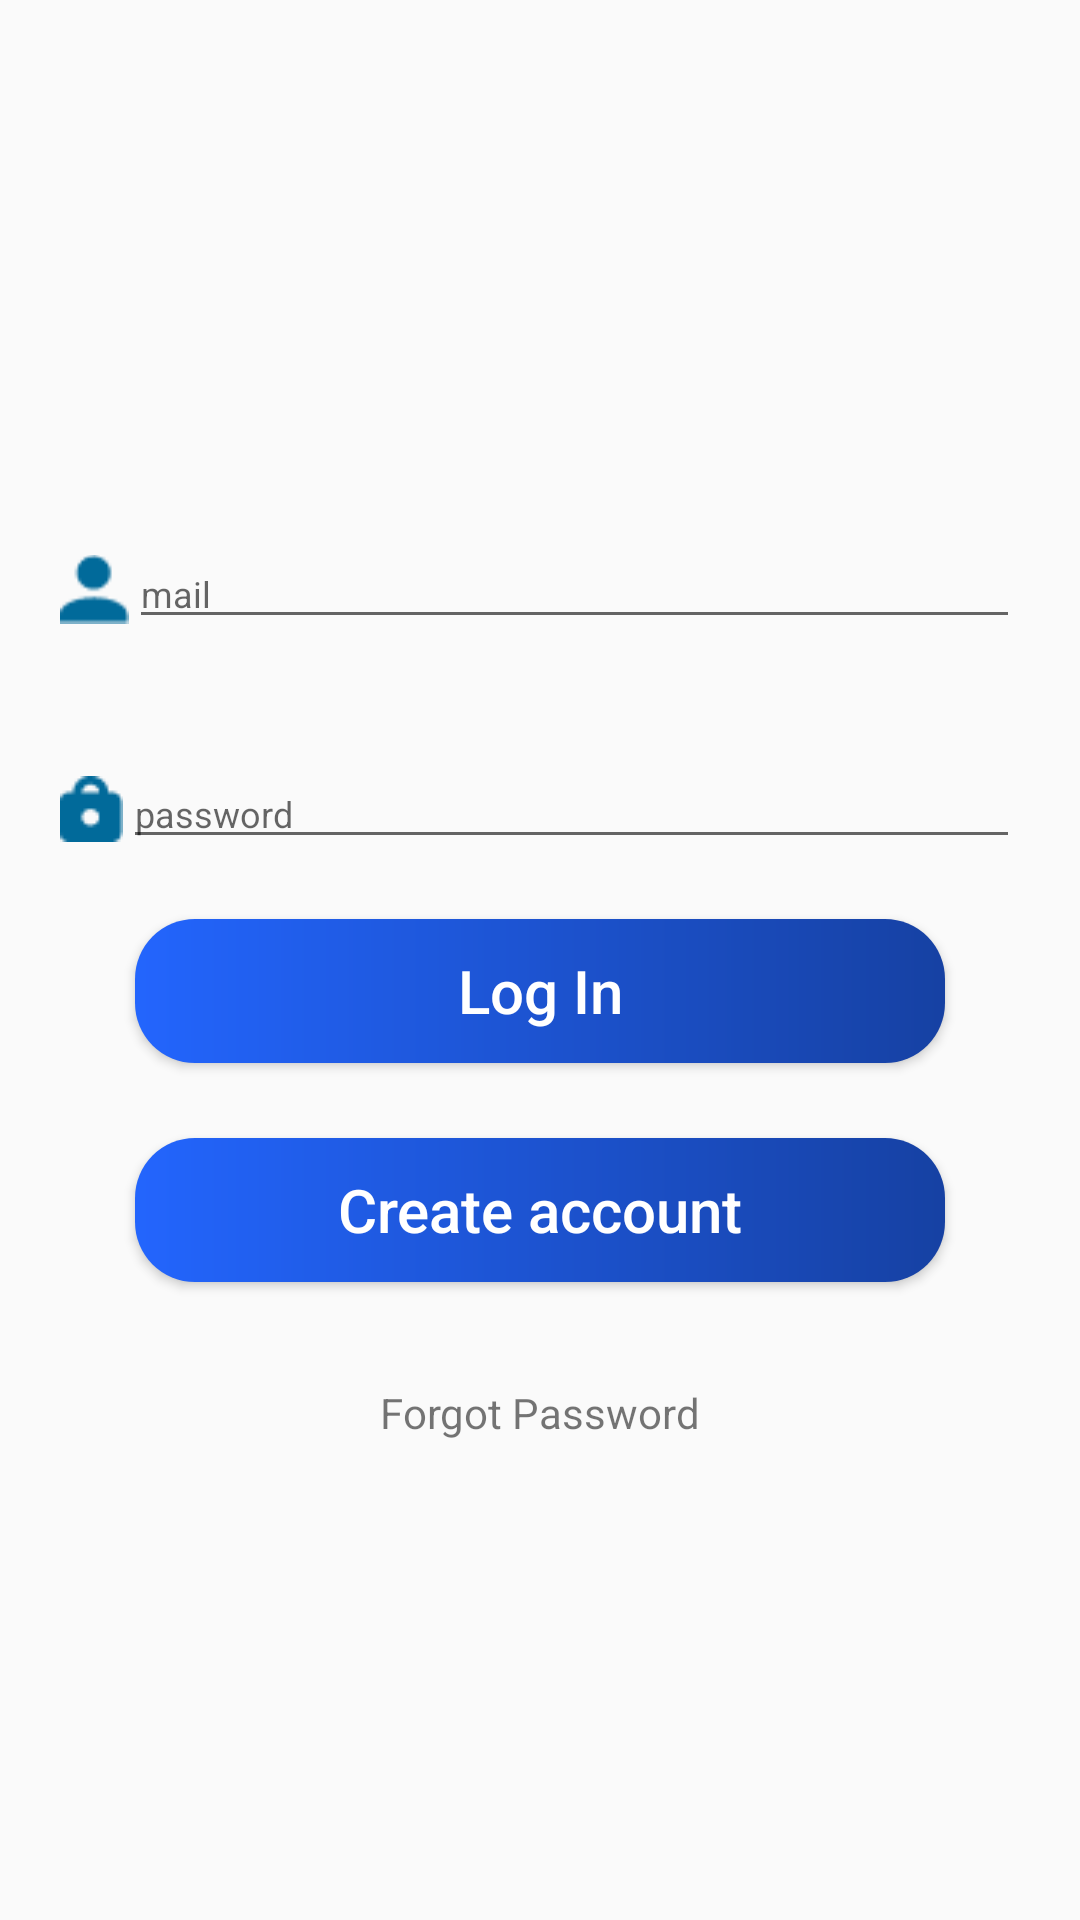

Where icons sit on this 1080*1920 app screen, as (x1, y1, x2, y2):
username: (60, 555, 129, 624)
